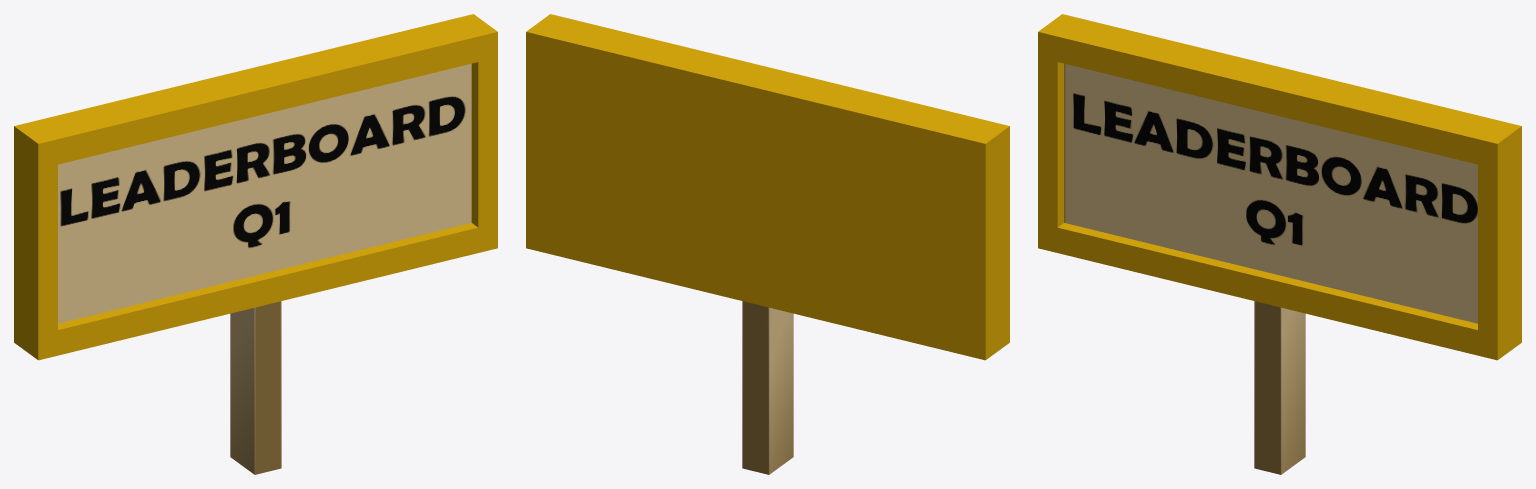
File: signPost_lQ1.fbx
The picture shows the model from 3 angles, left to right: view 1: azimuth 30°, elevation 25°; view 2: azimuth 150°, elevation 25°; view 3: azimuth 330°, elevation 25°; orthographic projection.
Parts seen in each view (by area): view 1: pCube3; view 2: pCube3; view 3: pCube3.
Boxes of the visible parts, bbox=[...] form: pCube3: bbox=[14, 14, 497, 474]; pCube3: bbox=[526, 14, 1009, 474]; pCube3: bbox=[1038, 14, 1521, 474].
Size of the model in its own units: 6.34 by 5.06 by 0.5821.
Materials: 2 (1 with a texture image).
